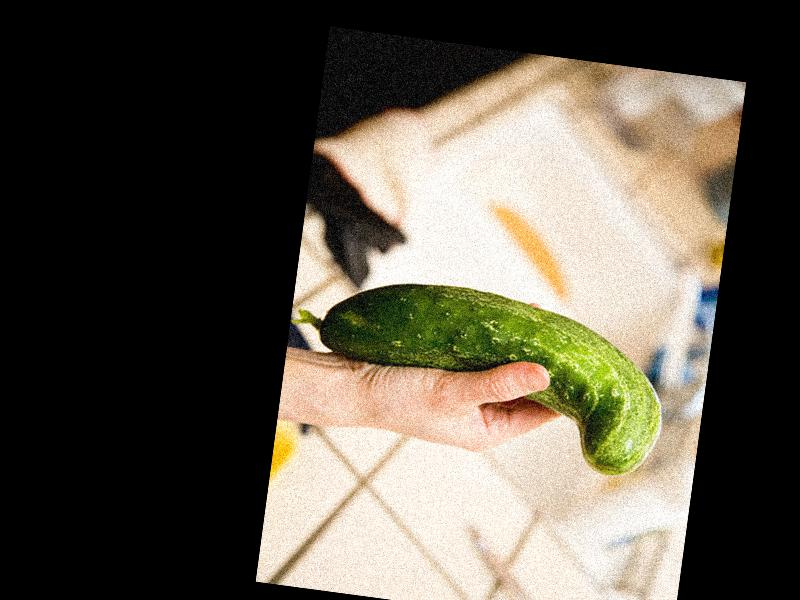Cucumber: (281, 265, 676, 480)
